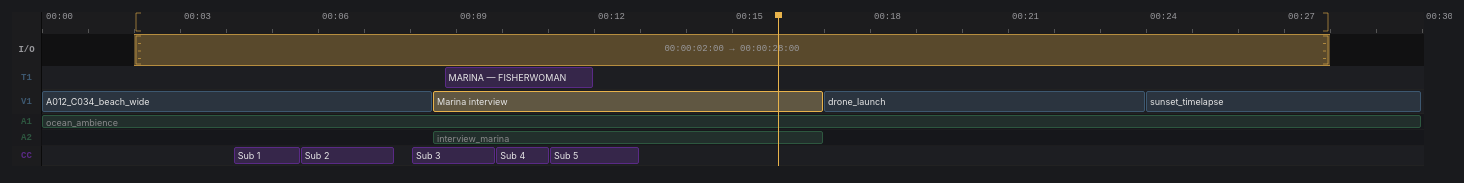
Test: R23-WF (D-F1) — the band drag law (ruling 21: local preview, ONE commit per gesture) › F3 P3-2: dragging OUT past the LIVE in pins the preview at in — release commits exactly the preview
Step 1. Press the mouse on the slider with test id "shell-deliver-range-band-out" → (1326, 50), box 1322,35 -> 1330,65
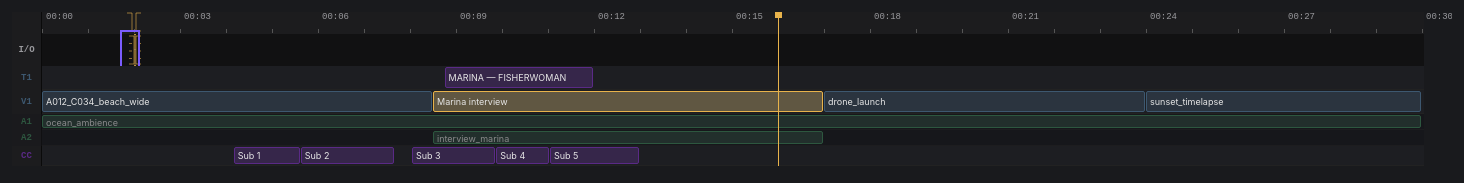
Now the element with test id "shell-deliver-range-band-tcs" reads "00:00:02:00 → 00:00:02:00", box 127,44 -> 143,54
